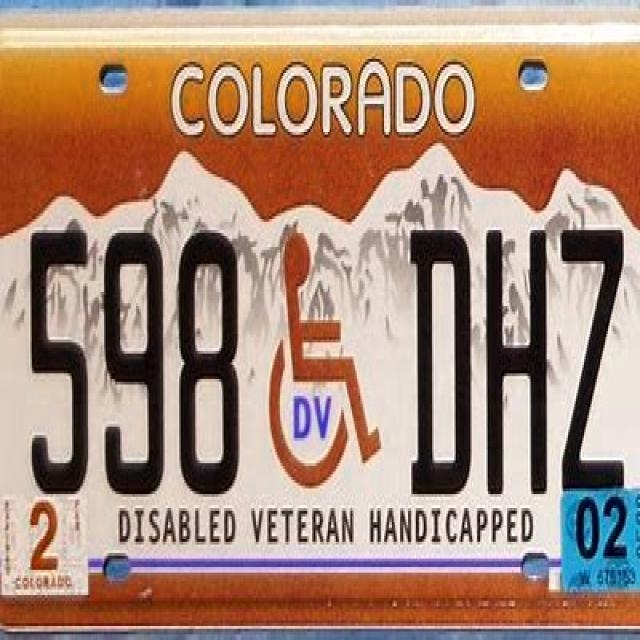ISA: (268, 232, 382, 489)
